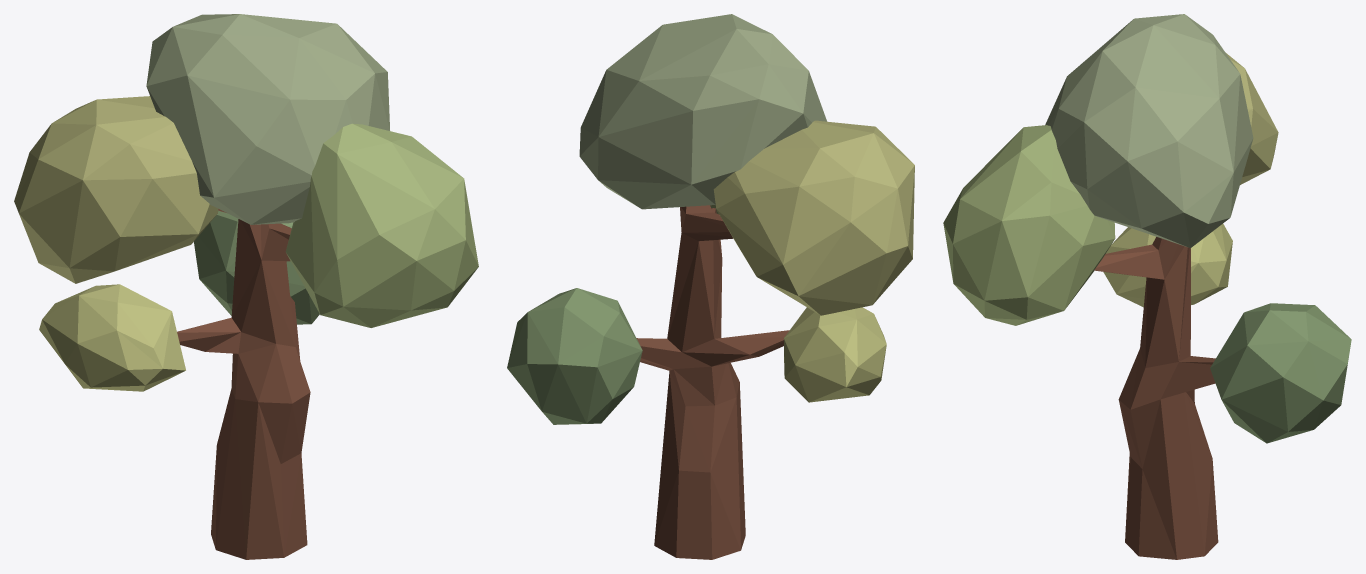
The model's file is tree4_felix.fbx.
3 views of the same model, side by side, from view 1: azimuth 30°, elevation 25°; view 2: azimuth 150°, elevation 25°; view 3: azimuth 270°, elevation 25° (orthographic). The views are drawn at different scales.
Parts seen in each view (by area): view 1: Cylinder.002; view 2: Cylinder.002; view 3: Cylinder.002.
Part boxes in pixels (x1,y1,x2,y2): Cylinder.002: (14, 14, 478, 559); Cylinder.002: (507, 14, 914, 559); Cylinder.002: (943, 14, 1351, 559).
Bounding box in the file's own units: 8.38 × 11.91 × 8.75.
